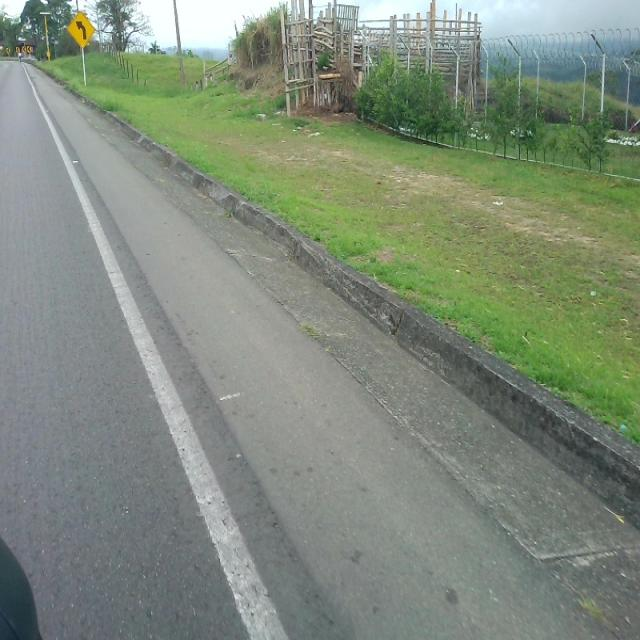DITCH: (7, 57, 638, 638)
